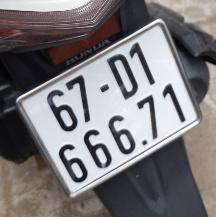1: (159, 78, 199, 134), (126, 37, 159, 94)
6: (39, 83, 88, 139), (52, 139, 96, 194), (100, 107, 142, 161), (78, 124, 119, 172)
7: (60, 69, 103, 129), (131, 90, 175, 148)
D: (100, 48, 146, 106)
